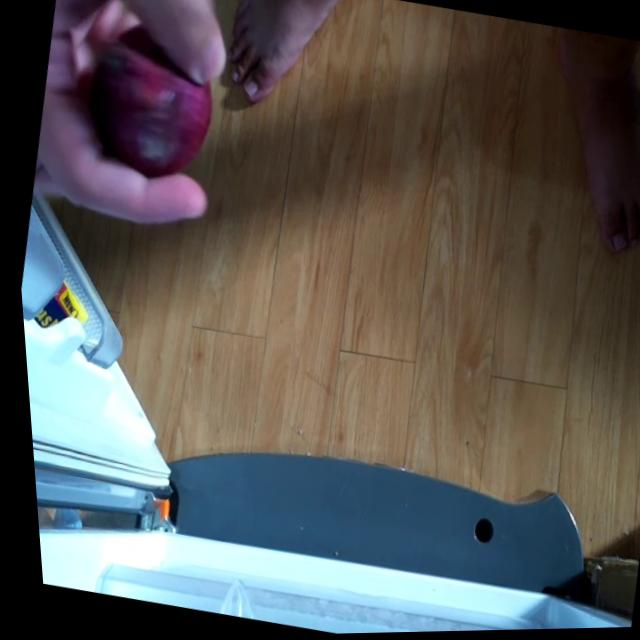onion: (70, 12, 231, 188)
